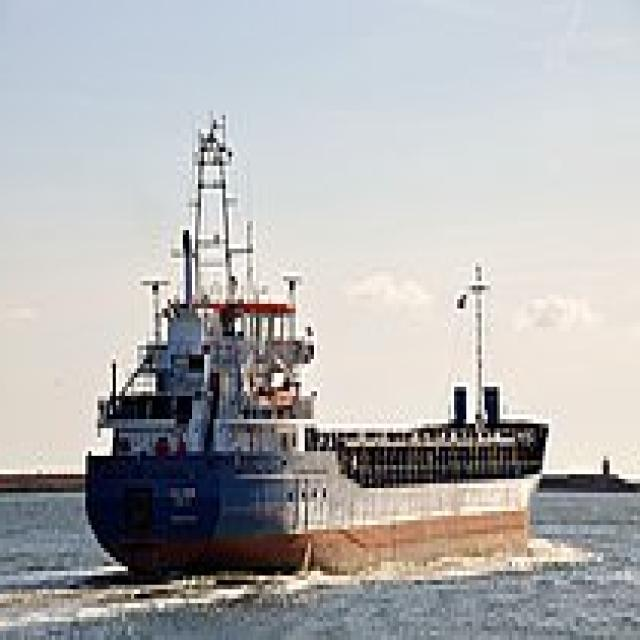Cargo: (85, 97, 555, 576)
